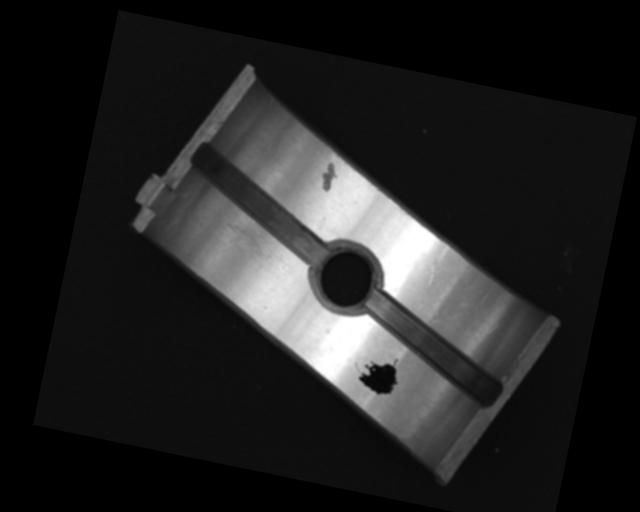blot: (350, 350, 404, 399)
bruise: (317, 159, 340, 195)
gap: (179, 144, 340, 266), (351, 294, 513, 410)
hole: (302, 237, 387, 322)
nick: (421, 241, 450, 288)
scratch: (211, 217, 282, 271)
